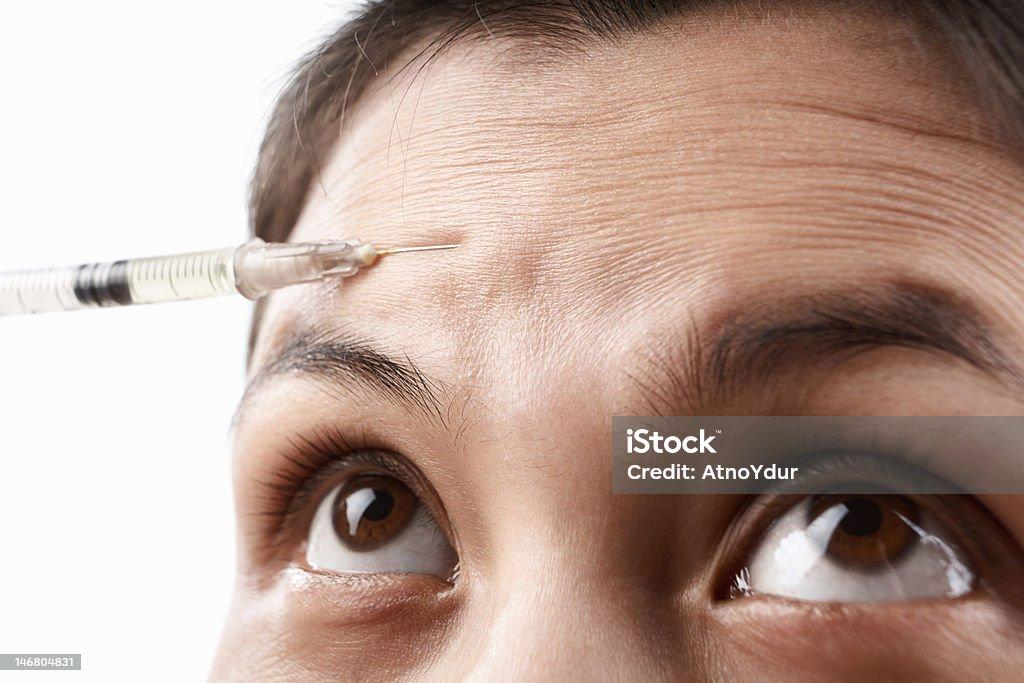Dry-Skin: (348, 92, 883, 288)
